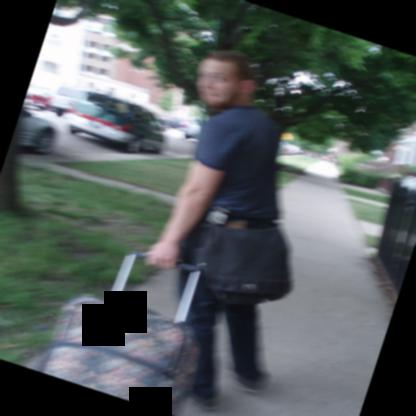backpack: (193, 222, 295, 307)
handbag: (194, 206, 292, 306)
suitcase: (36, 292, 203, 416)
